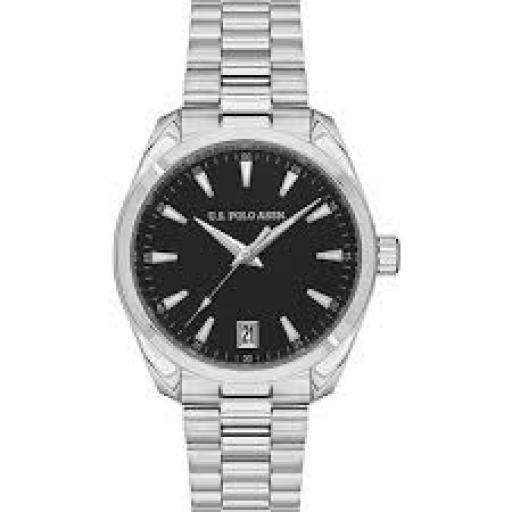KolSaati: (107, 2, 403, 512)
